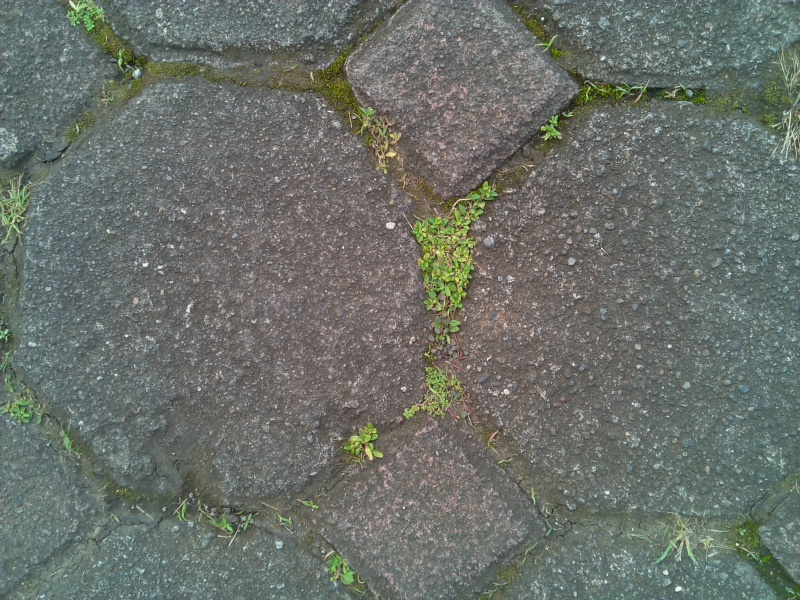Weed: (410, 179, 500, 322), (343, 102, 415, 180), (650, 505, 719, 567), (2, 167, 42, 255), (406, 362, 463, 420), (772, 46, 800, 156), (342, 415, 393, 473), (3, 373, 46, 428), (320, 543, 365, 595), (529, 107, 571, 150), (58, 1, 108, 35), (209, 505, 248, 545), (102, 42, 141, 80), (52, 425, 84, 463), (612, 77, 652, 106), (295, 491, 328, 523), (170, 491, 198, 525), (533, 32, 561, 59), (1, 323, 15, 346)
